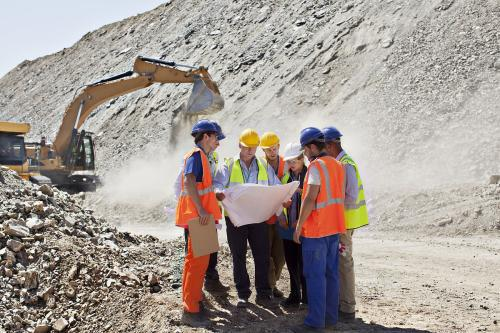helmet: (190, 116, 225, 155), (297, 123, 326, 159), (260, 132, 284, 164), (321, 127, 346, 157), (236, 127, 260, 158), (282, 141, 306, 172)
